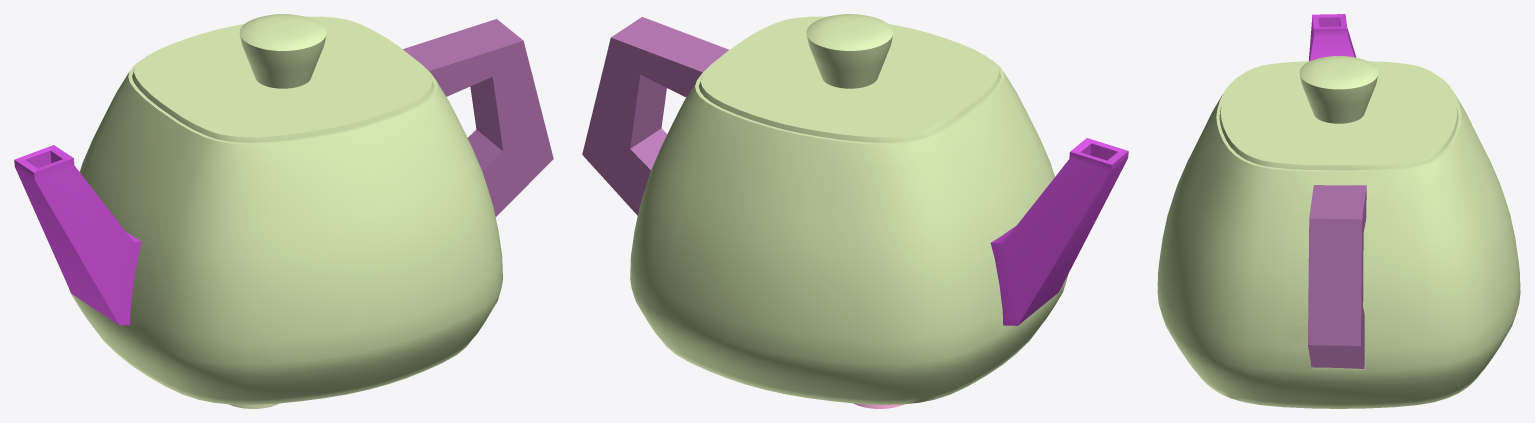
3 renders of one model, left to right at view 1: azimuth 30°, elevation 25°; view 2: azimuth 150°, elevation 25°; view 3: azimuth 270°, elevation 25°, orthographic. The views are drawn at different scales.
Parts seen in each view (by area): view 1: Object_2, Object_2.009, Object_2.008; view 2: Object_2, Object_2.009, Object_2.008; view 3: Object_2, Object_2.009, Object_2.008.
Part boxes in pixels (<box>): Object_2: <box>69,14,502,404</box>; Object_2.009: <box>403,19,553,216</box>; Object_2.008: <box>14,145,141,325</box>; Object_2: <box>630,14,1068,404</box>; Object_2.009: <box>582,17,729,215</box>; Object_2.008: <box>990,138,1128,325</box>; Object_2: <box>1157,56,1520,408</box>; Object_2.009: <box>1308,185,1366,368</box>; Object_2.008: <box>1308,14,1356,60</box>.
Size of the model in its own units: 1 by 0.5875 by 0.6633.
